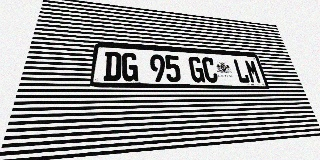5: (164, 55, 182, 82)
9: (150, 54, 166, 82)
C: (201, 57, 219, 83)
D: (103, 51, 121, 81)
G: (121, 52, 138, 81), (188, 56, 205, 82)
L: (232, 59, 251, 83)
M: (244, 59, 262, 83)
